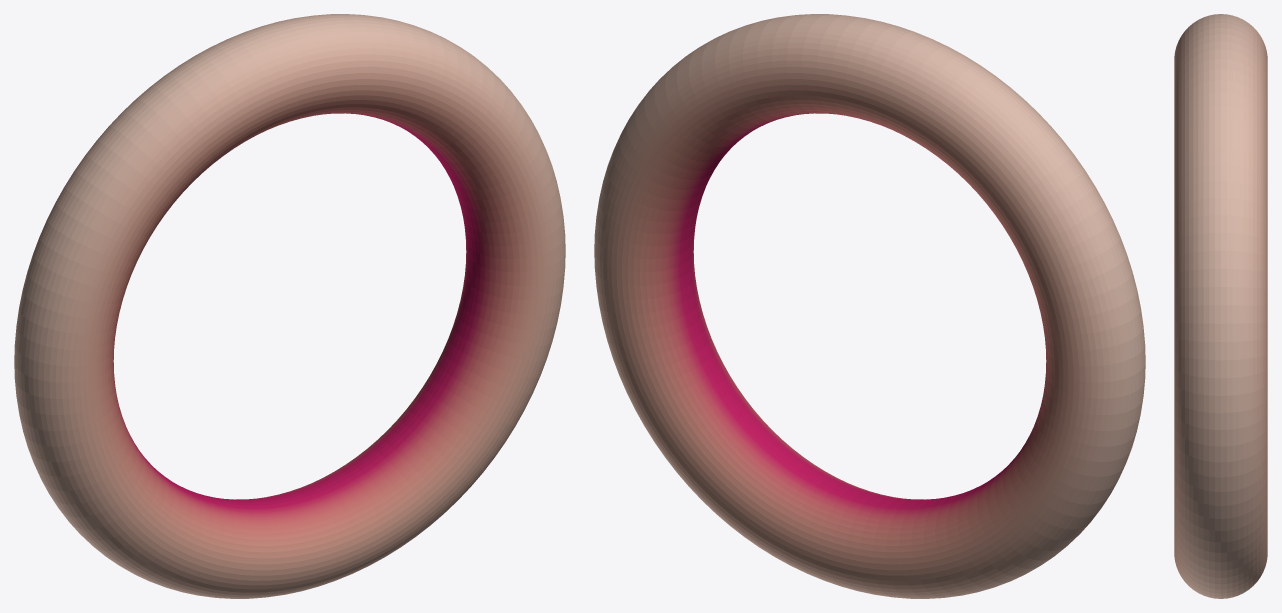
3 views of the same model, side by side, from view 1: azimuth 30°, elevation 25°; view 2: azimuth 150°, elevation 25°; view 3: azimuth 270°, elevation 25° (orthographic). The views are drawn at different scales.
Visible parts, largest first — view 1: world; view 2: world; view 3: world.
Boxes of the visible parts, box(x1,y1,x2,y2) form: world: box(14, 14, 565, 598); world: box(594, 14, 1145, 598); world: box(1174, 14, 1267, 598).
Bounding box in the file's own units: 34.13 × 34.13 × 5.46.
